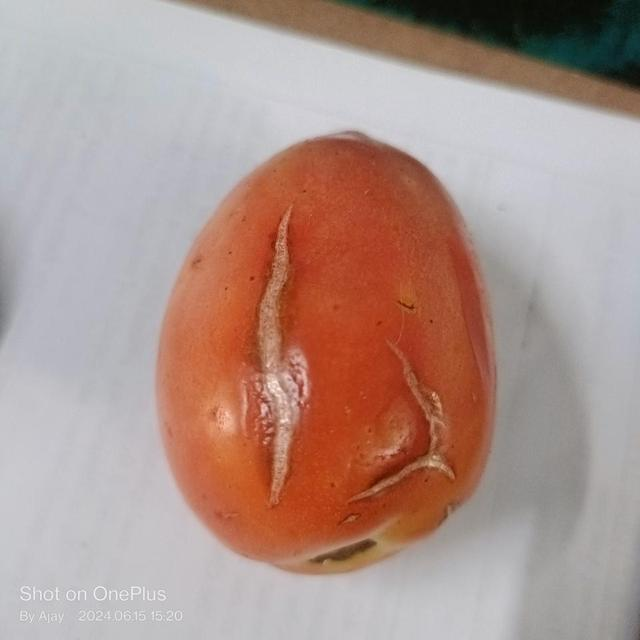Cracking Fruit: (196, 144, 303, 274)
